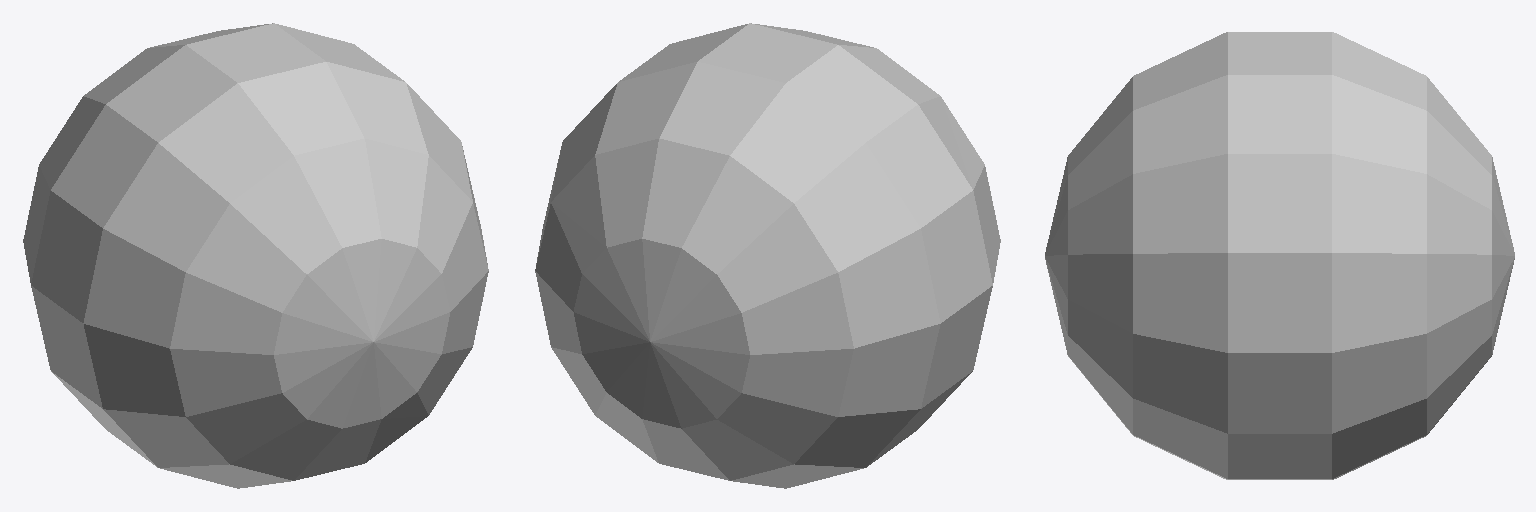
Rendered from tinker3.obj.
3 renders of one model, left to right at view 1: azimuth 30°, elevation 25°; view 2: azimuth 150°, elevation 25°; view 3: azimuth 270°, elevation 25°, orthographic.
Parts seen in each view (by area): view 1: obj_0; view 2: obj_0; view 3: obj_0.
Boxes of the visible parts, <box> form: obj_0: <box>23,23,488,488</box>; obj_0: <box>535,23,1000,488</box>; obj_0: <box>1045,32,1514,479</box>.
Size of the model in its own units: 0.0098 by 0.0095 by 0.01.